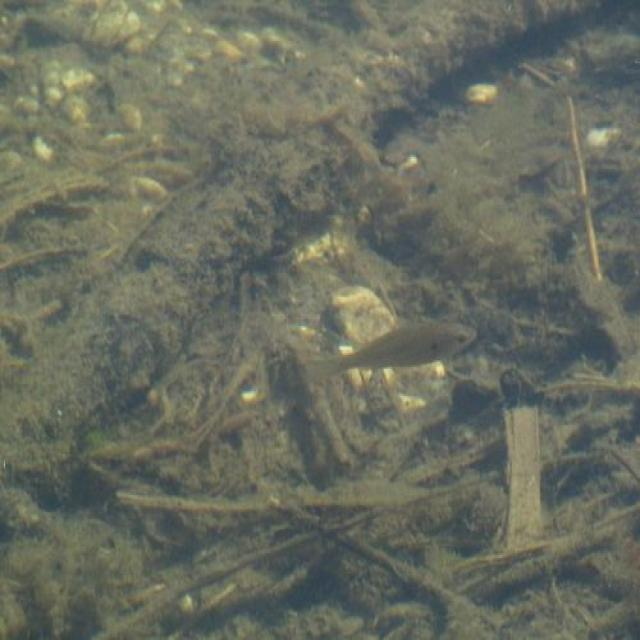Gunes Levregi: (308, 314, 474, 390)
